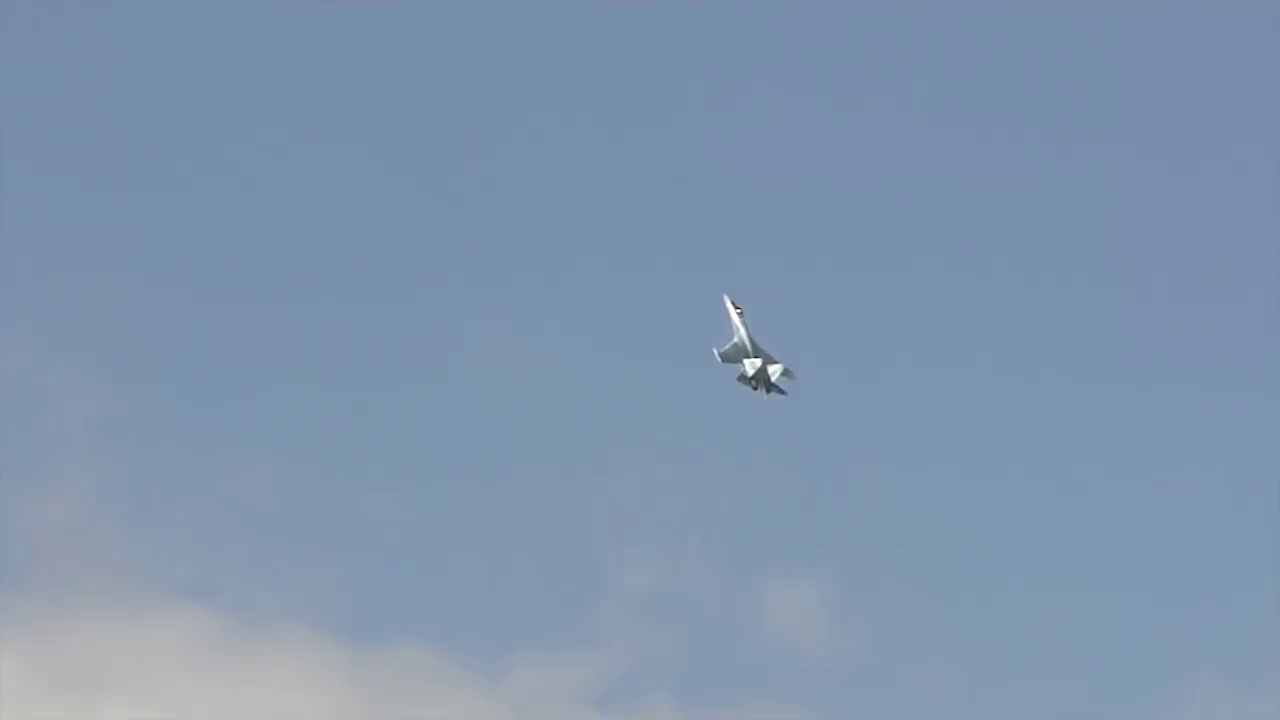Su35: (707, 284, 800, 405)
